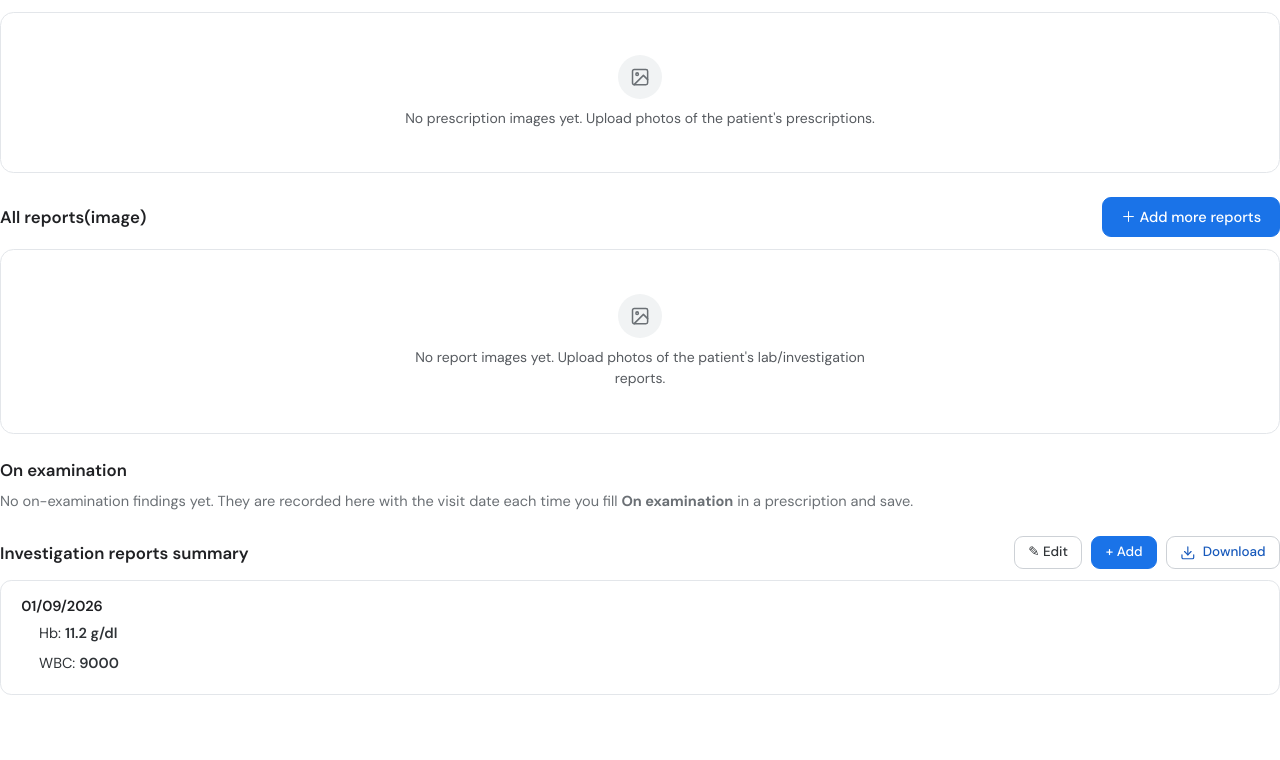
Test: PatientRecordsView — history delete and Undo › ⚕️ drops the Undo when another patient is opened
Click the button "✎ Edit" at (1048,552), box [1014,536,1082,569]
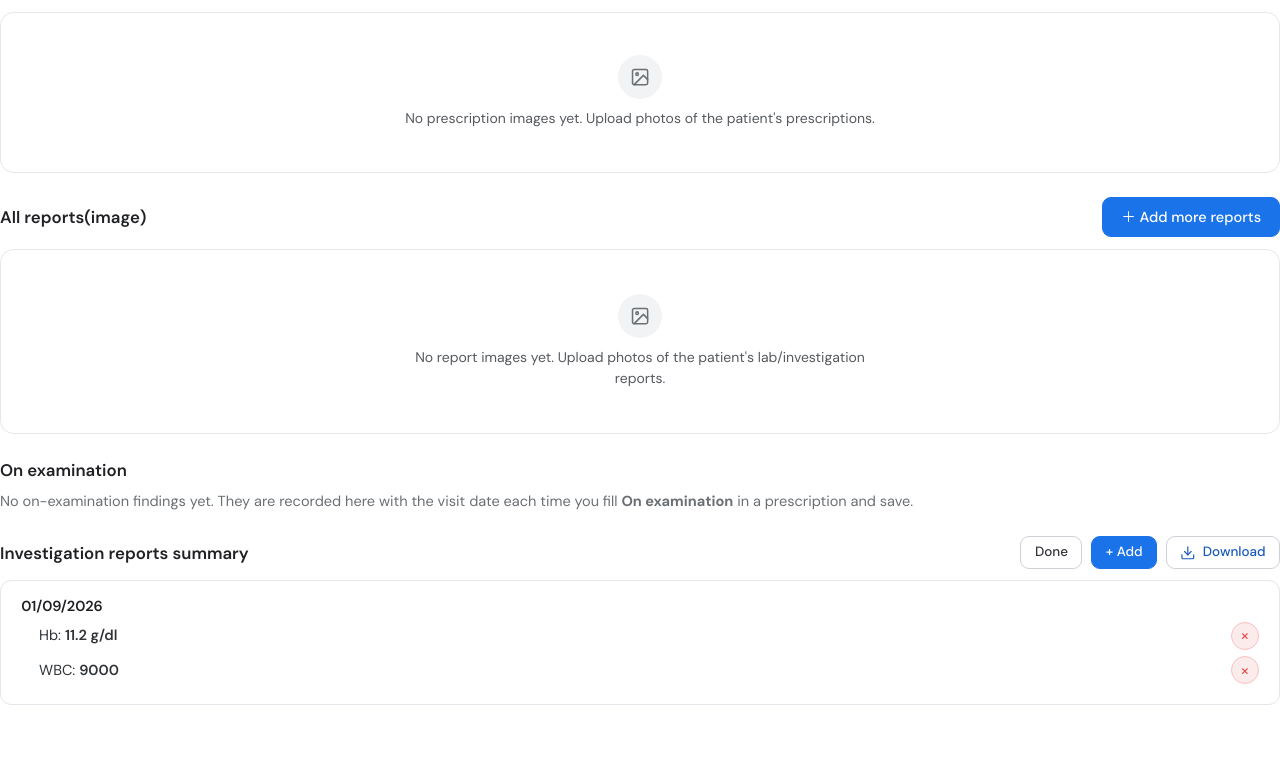
Click the button named "Delete finding" at (1245,636), box [1231,622,1259,650]
(page scrolled)
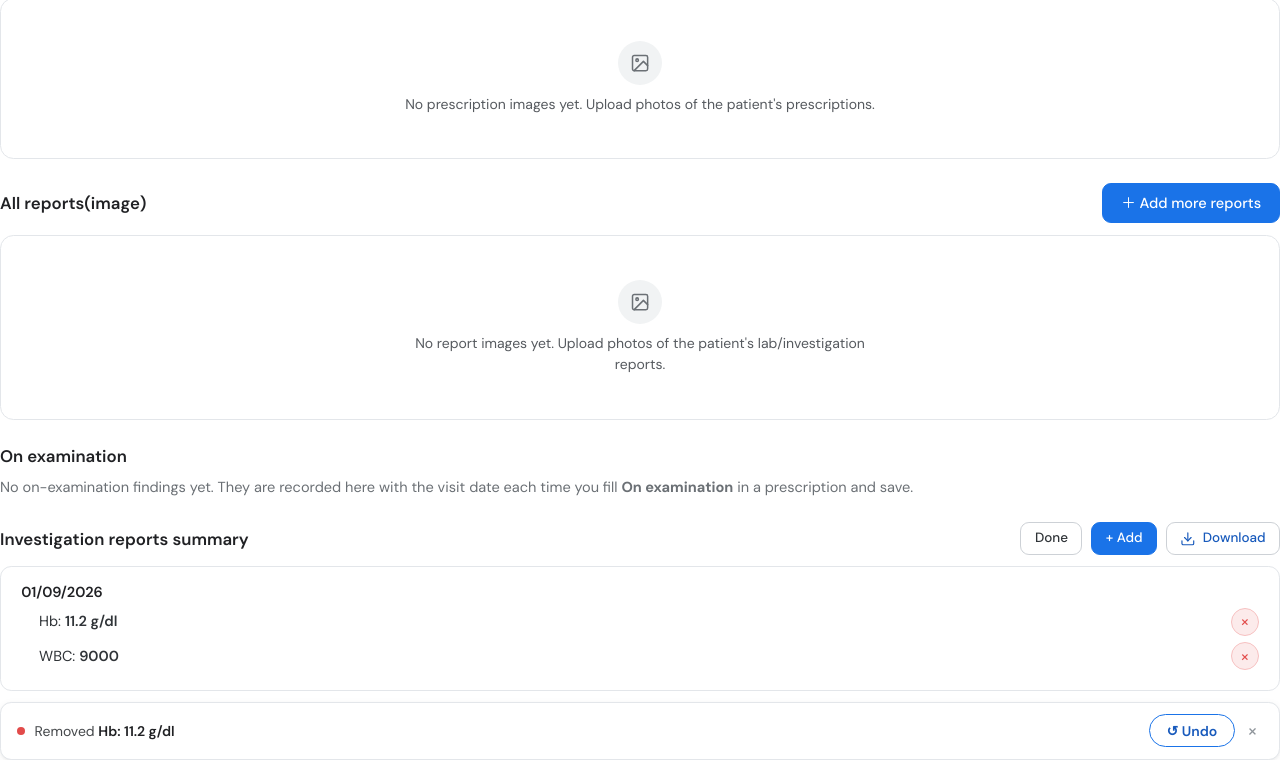
Check: the button "↺ Undo" is shown, box [1149,714,1235,747]
